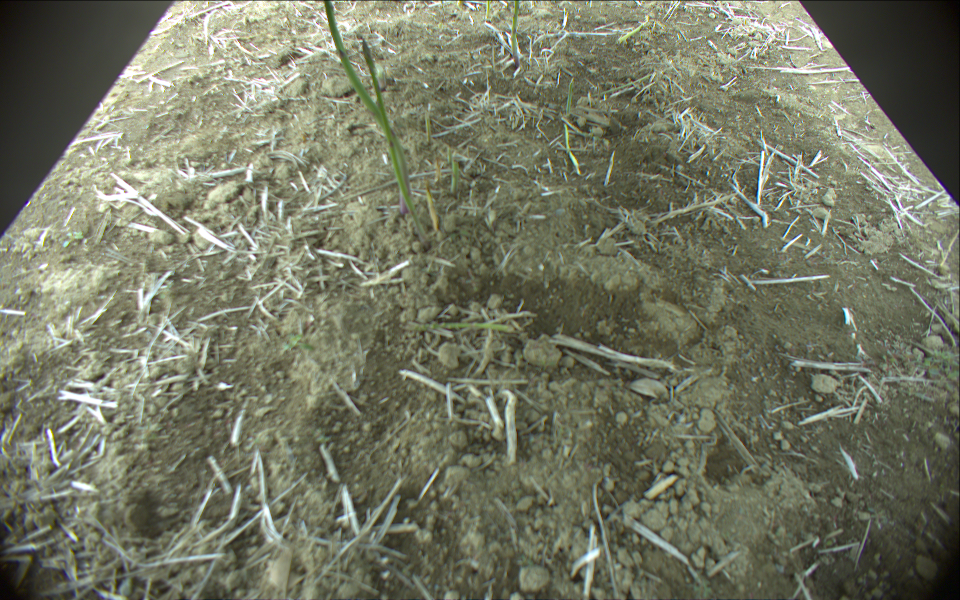aspa: (319, 1, 410, 213), (364, 32, 431, 247), (405, 319, 513, 336), (614, 17, 657, 45), (563, 122, 584, 175), (511, 1, 522, 66), (563, 75, 577, 114), (451, 149, 458, 193), (484, 1, 493, 21)
